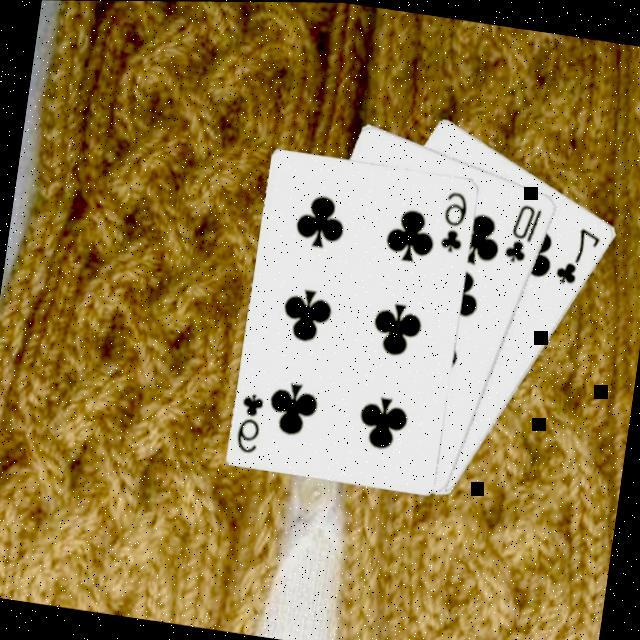10C: (499, 200, 545, 270)
6C: (230, 389, 267, 458), (435, 188, 472, 256)
7C: (550, 222, 604, 292)
